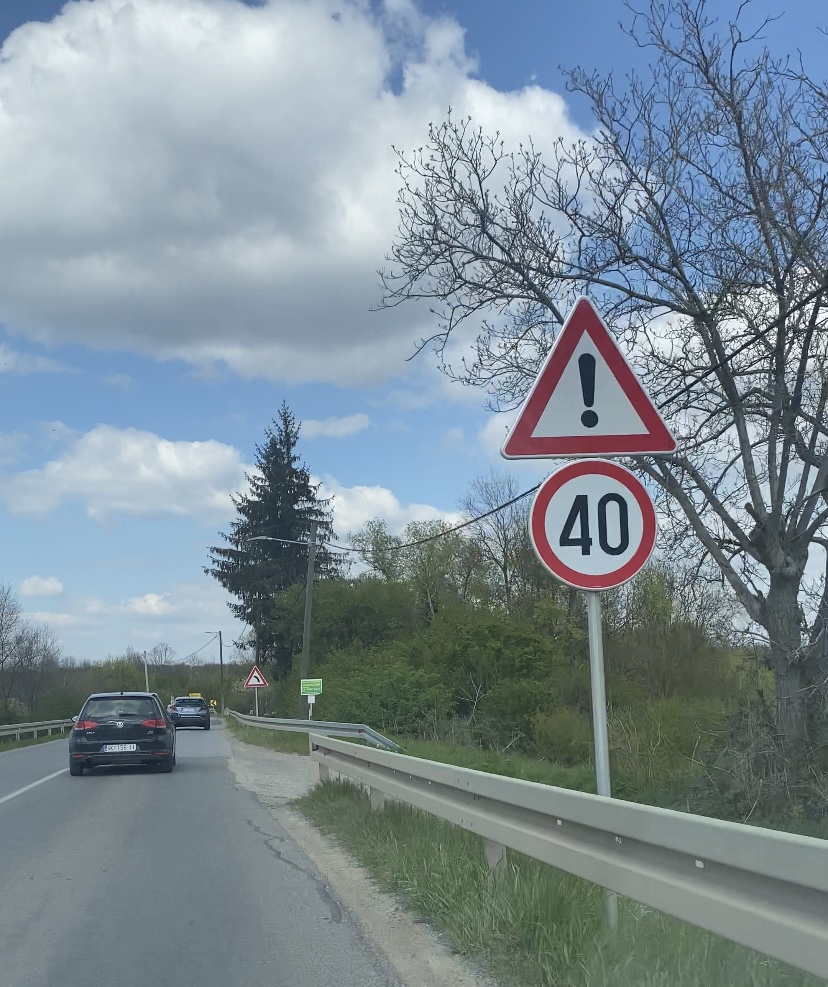Ograničenje brzine 40: (530, 458, 657, 590)
